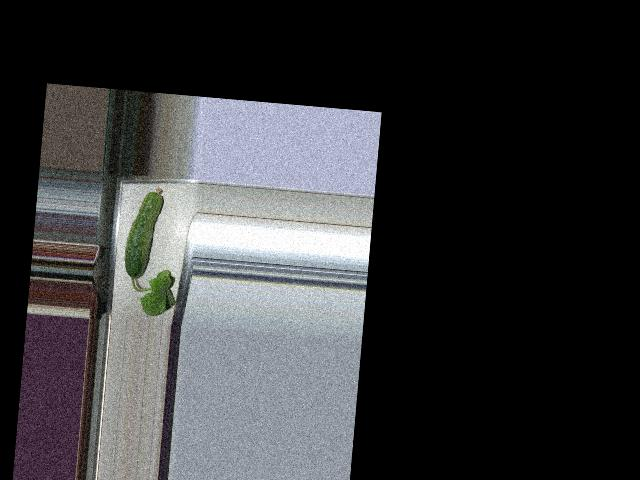cucumber: (122, 185, 164, 281)
